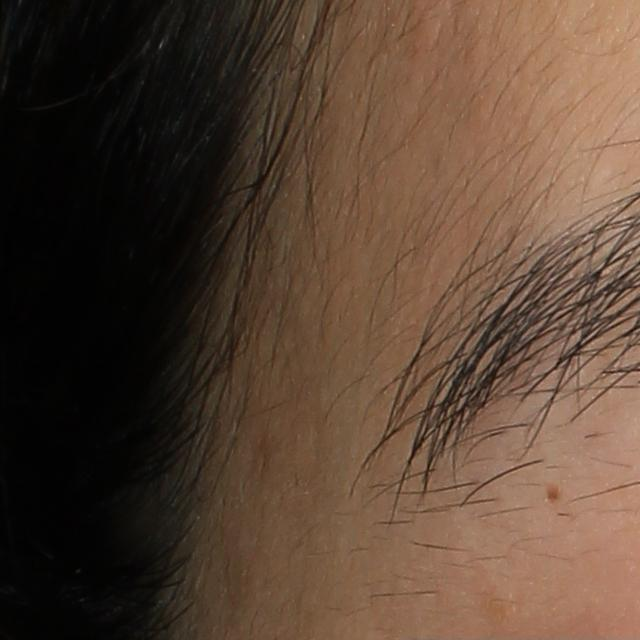nevus: (543, 479, 561, 505)
